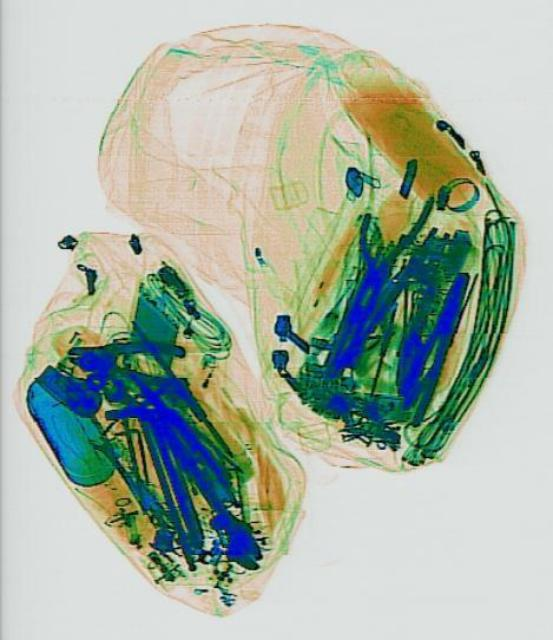Pliers: (387, 262, 475, 428), (340, 177, 431, 309), (63, 330, 189, 388)
Wrench: (144, 415, 268, 577), (98, 372, 162, 428)
